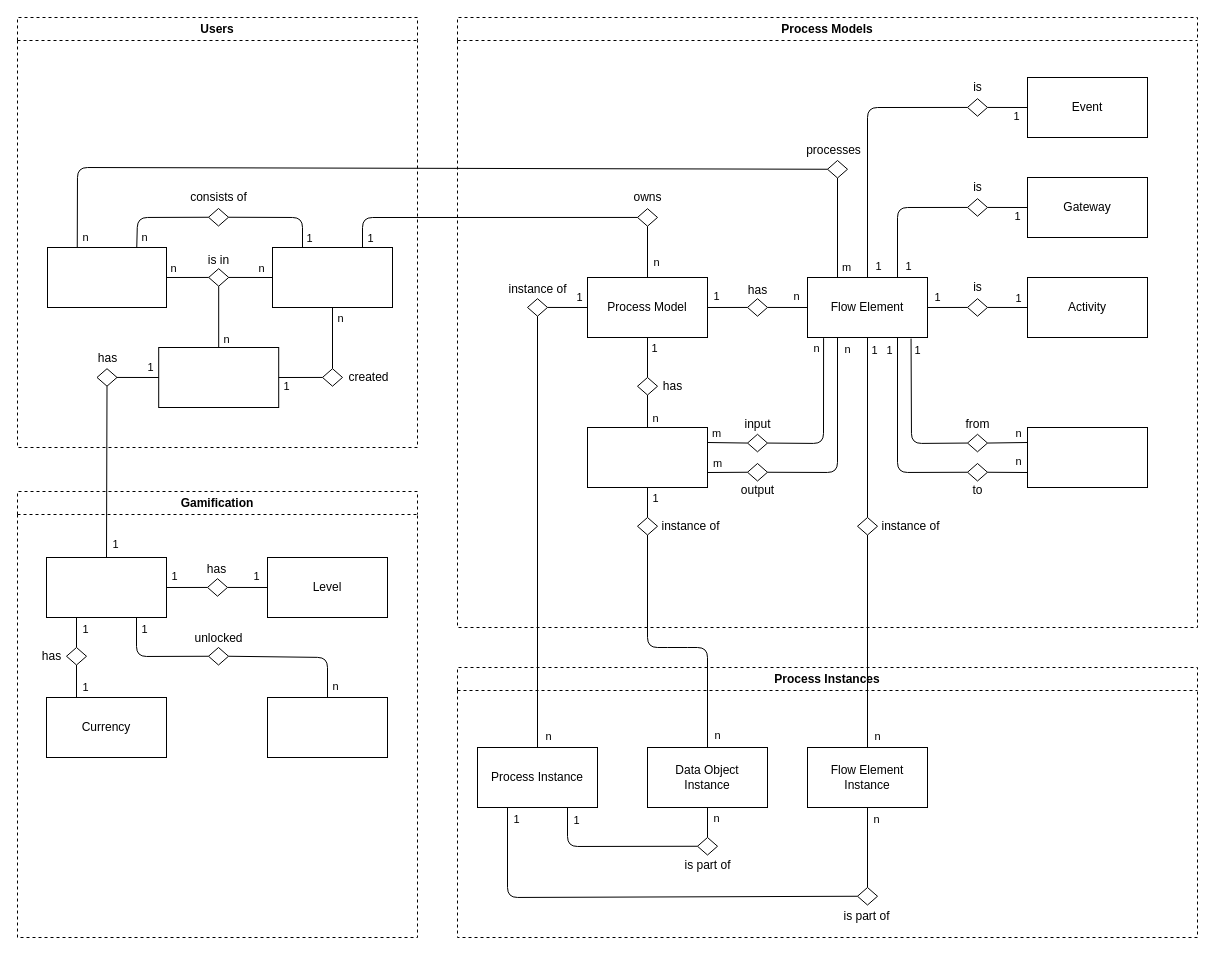
This 1215x955 diagram has some shape labels left out. The centre of each missing label's shape, as x and y in pixels:
Badge: point 327,727
Data Object: point 647,457
Role: point 106,277
Sequence Flow: point 1087,457
Statistics: point 106,587
Team: point 332,277
User: point 218,377
